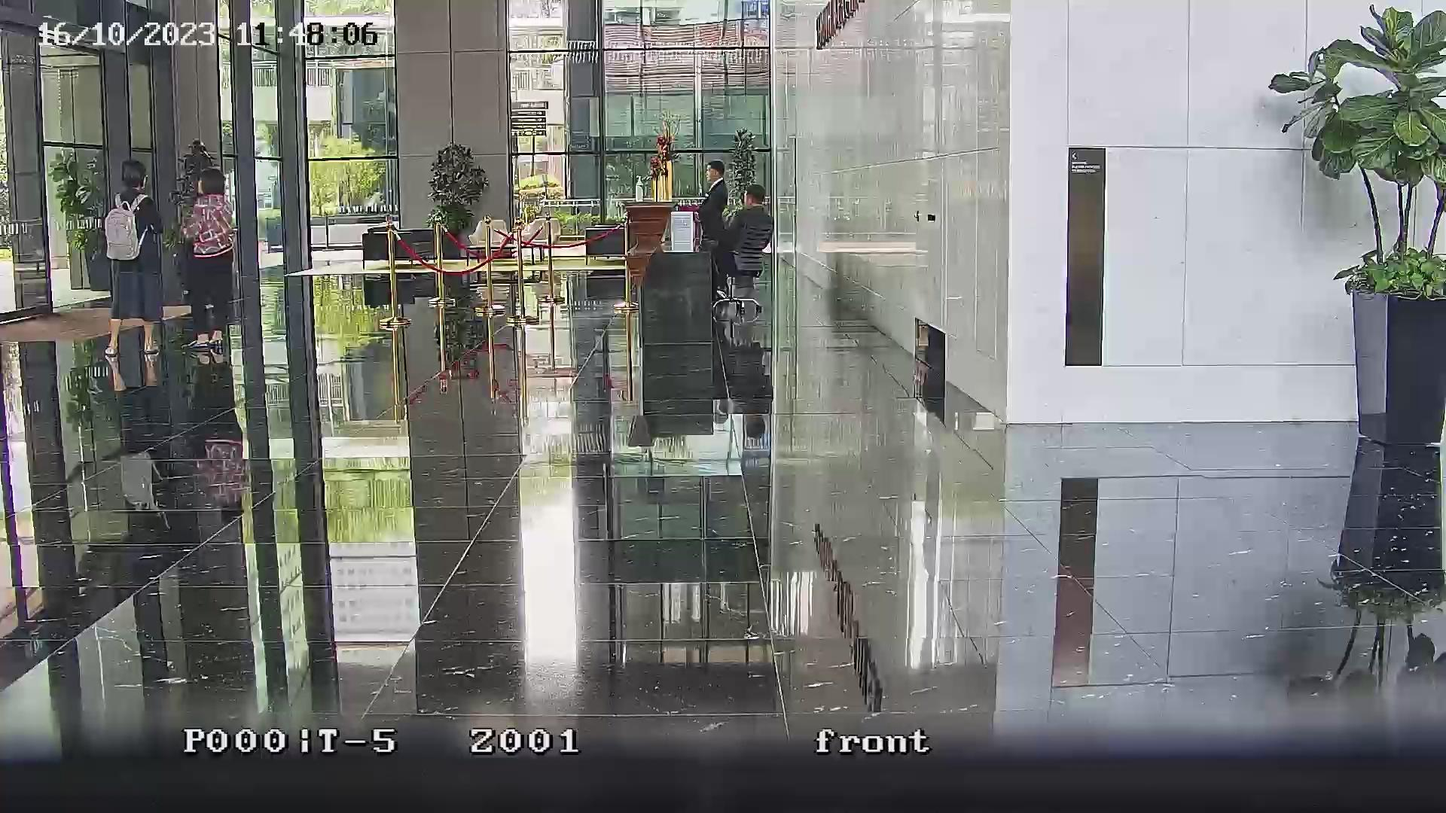person: (102, 160, 165, 363), (178, 169, 236, 349), (720, 185, 773, 297), (694, 159, 729, 267)
